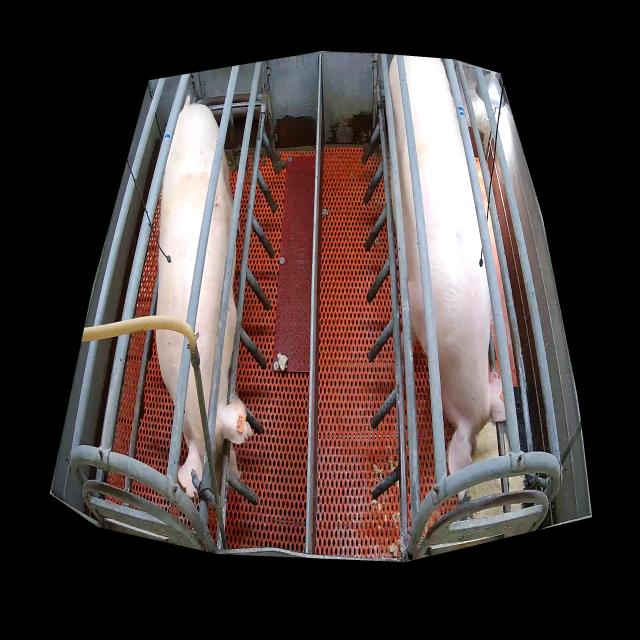pig: (389, 55, 506, 476), (156, 105, 253, 497)
